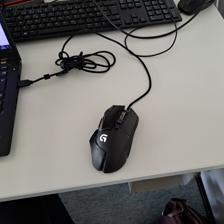mouse: (88, 104, 140, 174)
